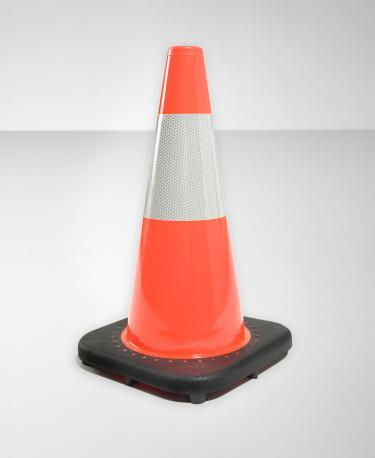Cone: (75, 44, 296, 407)
